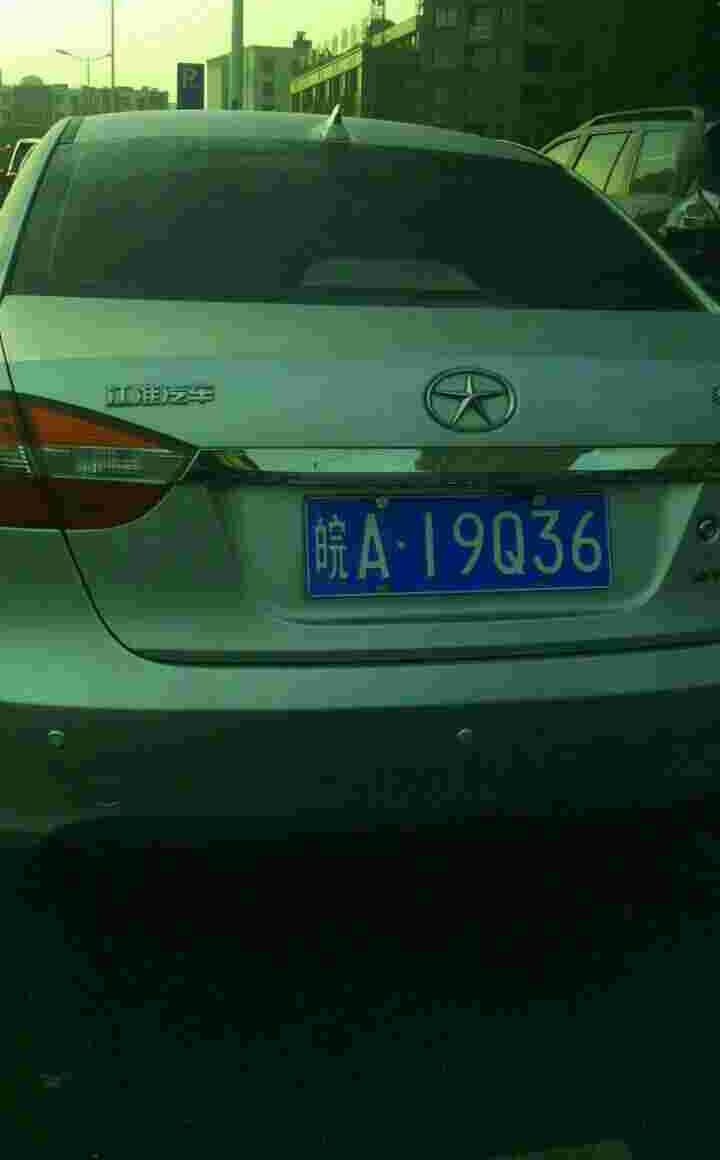license_plate: (290, 487, 606, 590)
